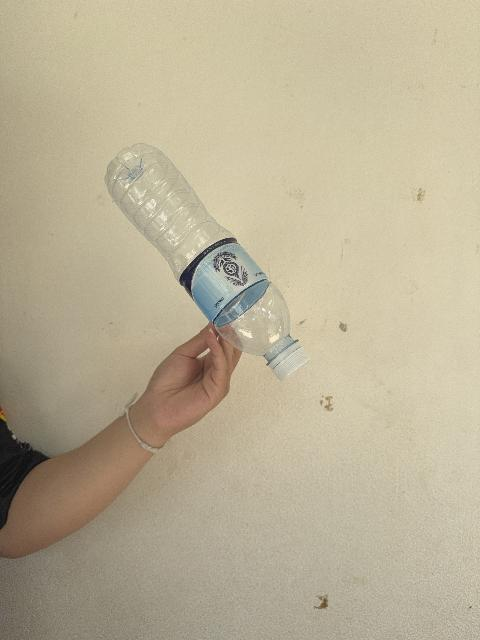bottle: (104, 144, 309, 380)
